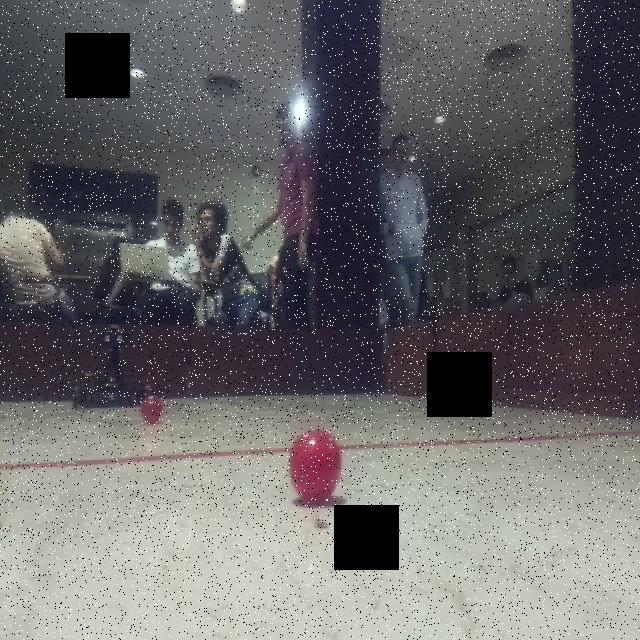ball: (282, 422, 346, 509), (136, 386, 167, 428)
